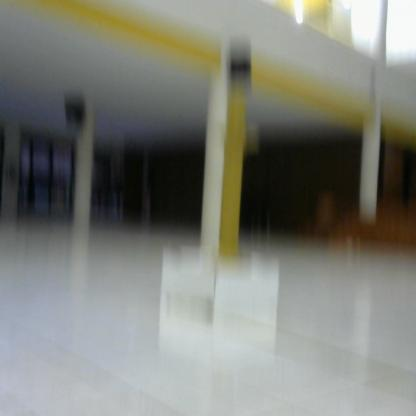pole: (215, 99, 260, 267)
